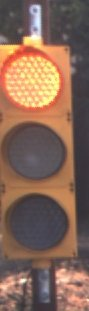Red: (3, 20, 89, 268)
